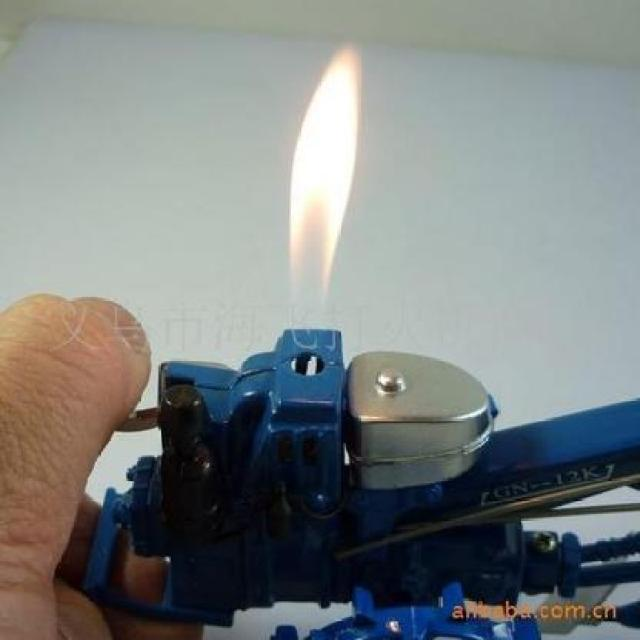Fire: (279, 49, 376, 344)
